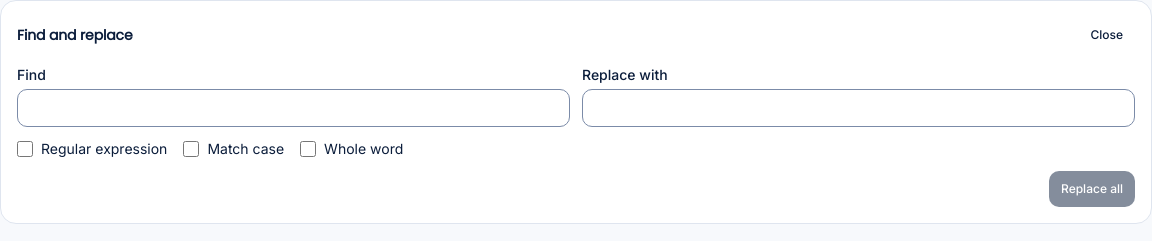
FindReplace › says a regular expression is invalid instead of throwing
Click the checkbox labelled "Regular expression".
click(25, 149)  # box [17,141,33,157]
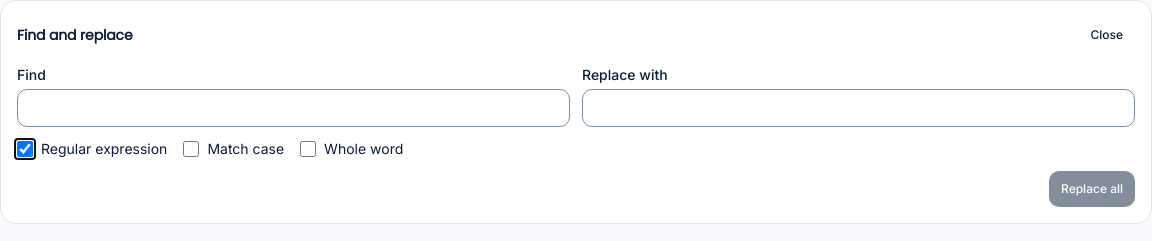
Type "(unclosed" into the field labelled "Find".
click(294, 108); type("(unclosed")  # box [17,89,570,127]
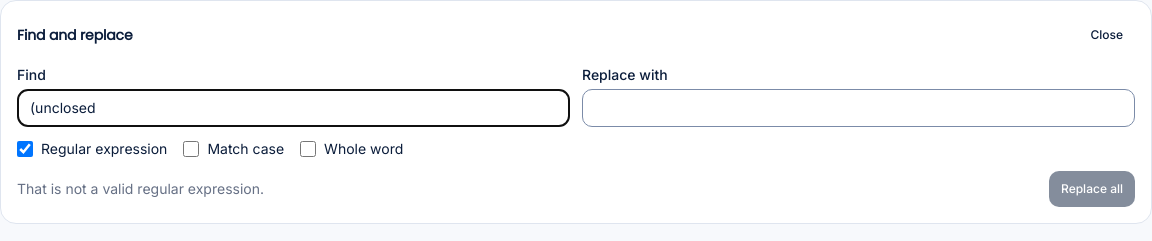
Result: the text "That is not a valid regular expression." is shown at [17,179,264,199]
